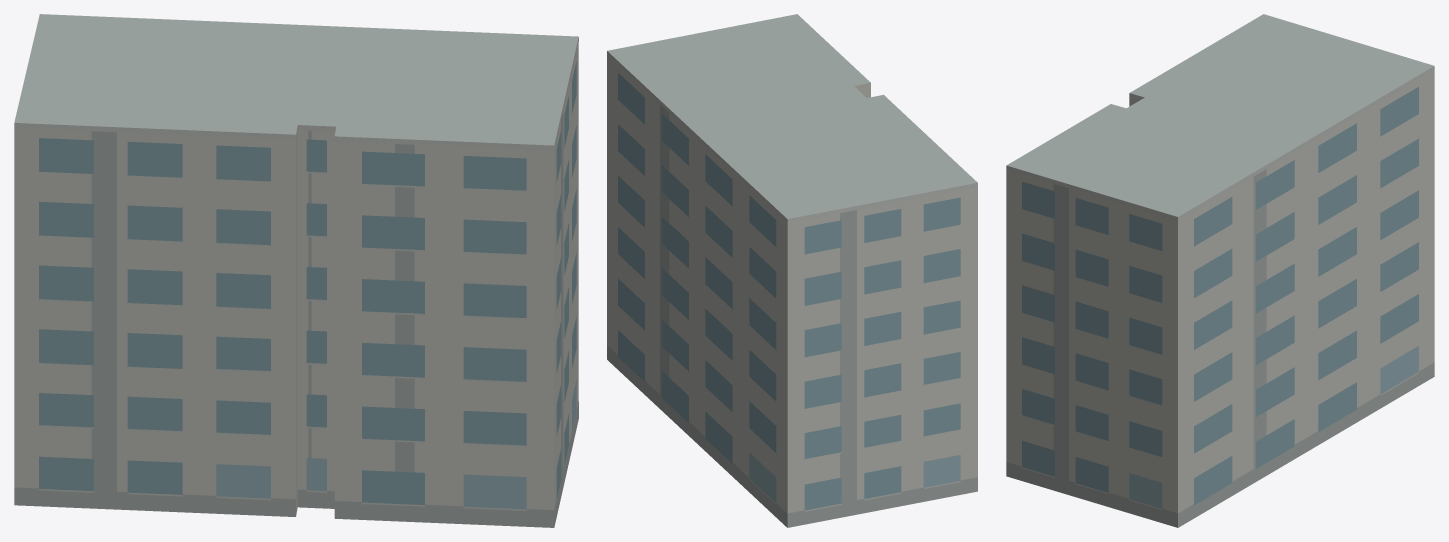
Rendered from survey-upis-32552460.glb.
3 views of the same model, side by side, from view 1: azimuth 30°, elevation 25°; view 2: azimuth 150°, elevation 25°; view 3: azimuth 270°, elevation 25° (orthographic). The views are drawn at different scales.
Visible parts, largest first — view 1: survey-upis-32552460.tmp; view 2: survey-upis-32552460.tmp; view 3: survey-upis-32552460.tmp.
Boxes of the visible parts, x1,y1,x2,y2 form: survey-upis-32552460.tmp: (14,14,578,527); survey-upis-32552460.tmp: (607,14,977,527); survey-upis-32552460.tmp: (1006,14,1434,527).
Size of the model in its own units: 25.64 by 18.3 by 22.85.
